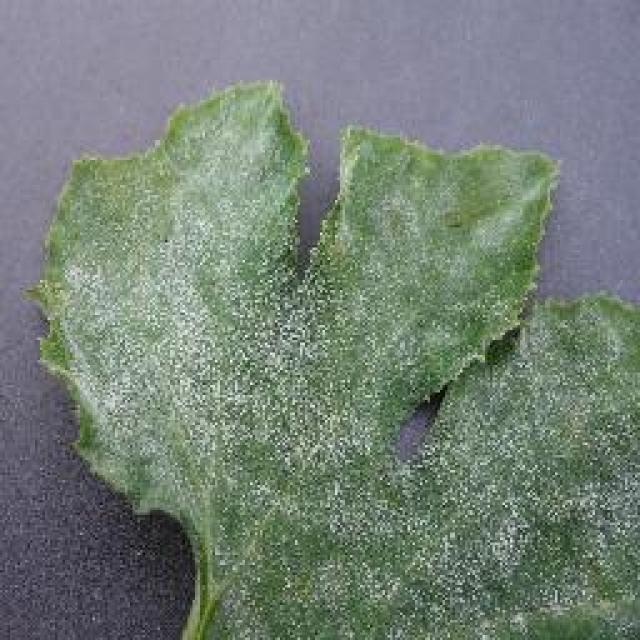Squ_Powdery_mildew: (106, 134, 601, 588)
